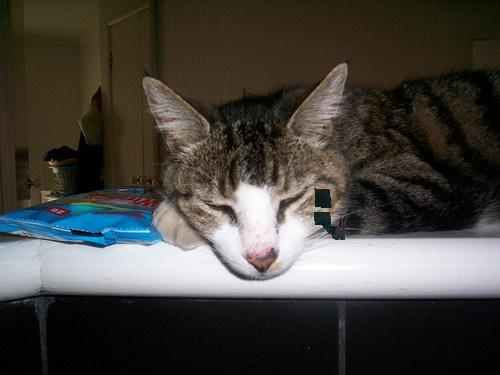tampered: (315, 189, 345, 240)
